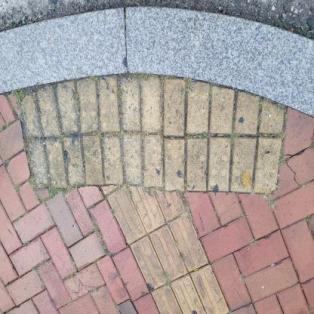Podoctatil: (15, 76, 285, 203)
